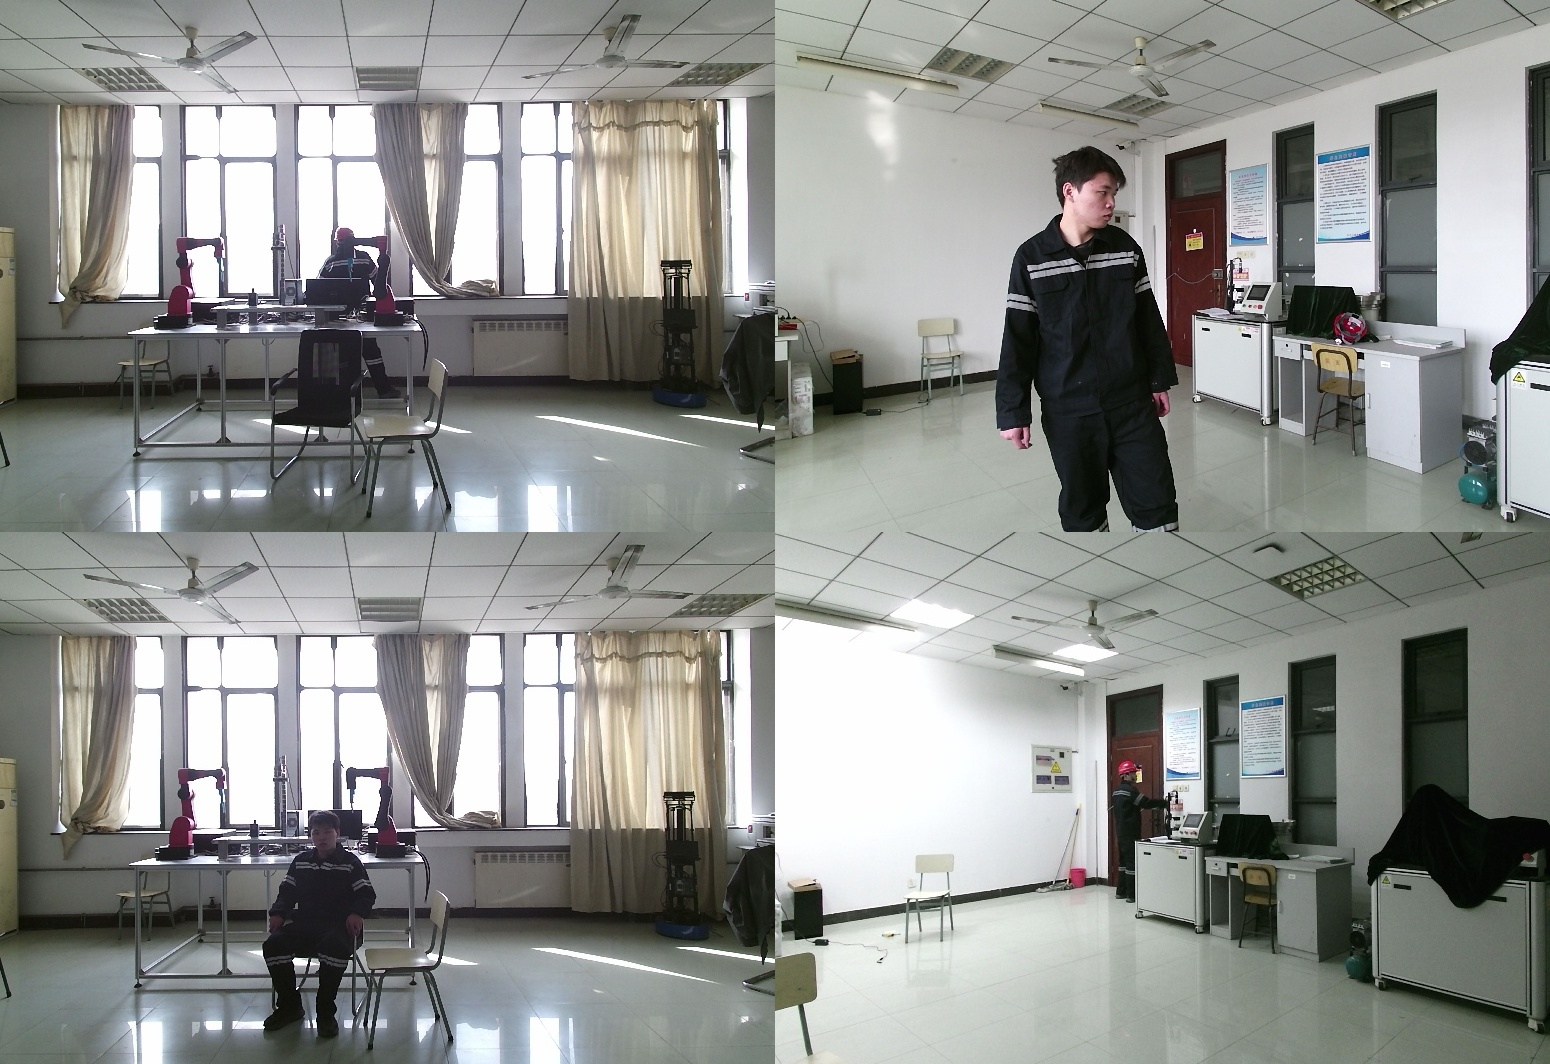person: (999, 146, 1205, 532), (261, 812, 383, 1030), (314, 229, 395, 402), (1106, 765, 1171, 906)
